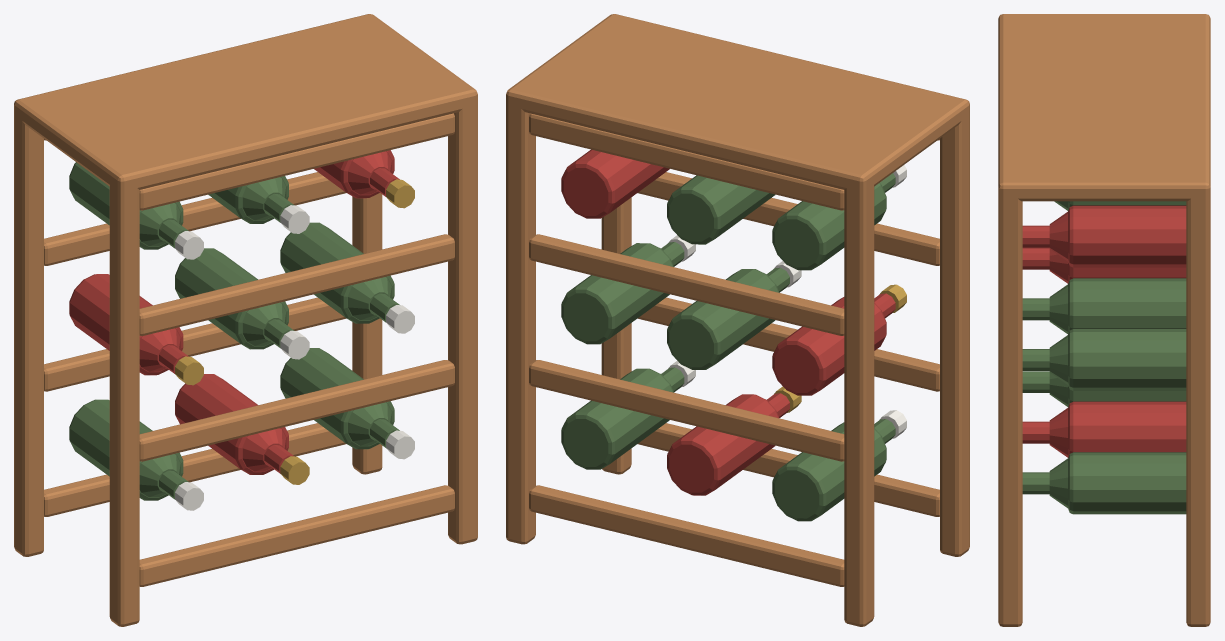
The model's file is hh_cat_wine_rack.glb.
3 renders of one model, left to right at view 1: azimuth 30°, elevation 25°; view 2: azimuth 150°, elevation 25°; view 3: azimuth 270°, elevation 25°, orthographic.
Visible parts, largest first — view 1: top, post, post.001, post.002, rail, rail.002, rail.004, rail.006, rail.003, rail.001, rail.005, post.003 (+27 smaller); view 2: top, post.001, post, post.003, rail.001, rail.003, rail.005, rail.007, bottle.002, bottle.005, bottle.001, bottle.004 (+9 smaller); view 3: top, post.003, post.002, bottle.002, bottle.008, bottle.005, bottle.001, bottle.004, bottle.003, bottle, bottle_shoulder.002, bottle_shoulder.004 (+13 smaller).
Boxes of the visible parts, x1=… form: top: x1=14, y1=15, x2=477, y2=191; post: x1=109, y1=166, x2=139, y2=626; post.001: x1=14, y1=96, x2=43, y2=556; post.002: x1=448, y1=84, x2=477, y2=544; rail: x1=139, y1=485, x2=454, y2=586; rail.002: x1=139, y1=360, x2=454, y2=461; rail.004: x1=139, y1=234, x2=454, y2=335; rail.006: x1=139, y1=113, x2=454, y2=210; rail.003: x1=44, y1=297, x2=346, y2=391; rail.001: x1=44, y1=423, x2=345, y2=516; rail.005: x1=44, y1=172, x2=345, y2=265; post.003: x1=352, y1=14, x2=382, y2=474; top: x1=506, y1=17, x2=969, y2=189; post.001: x1=844, y1=166, x2=874, y2=626; post: x1=940, y1=96, x2=969, y2=556; post.003: x1=506, y1=84, x2=535, y2=544; rail.001: x1=529, y1=485, x2=844, y2=586; rail.003: x1=529, y1=360, x2=844, y2=461; rail.005: x1=529, y1=234, x2=844, y2=335; rail.007: x1=529, y1=113, x2=844, y2=210; bottle.002: x1=561, y1=368, x2=673, y2=469; bottle.005: x1=561, y1=243, x2=673, y2=344; bottle.001: x1=667, y1=394, x2=779, y2=495; bottle.004: x1=667, y1=269, x2=779, y2=369; top: x1=998, y1=14, x2=1210, y2=201; post.003: x1=1186, y1=176, x2=1210, y2=626; post.002: x1=998, y1=176, x2=1022, y2=626; bottle.002: x1=1068, y1=452, x2=1186, y2=514; bottle.008: x1=1068, y1=205, x2=1186, y2=267; bottle.005: x1=1068, y1=329, x2=1186, y2=390; bottle.001: x1=1068, y1=401, x2=1186, y2=456; bottle.004: x1=1068, y1=278, x2=1186, y2=333; bottle.003: x1=1068, y1=263, x2=1186, y2=282; bottle: x1=1068, y1=386, x2=1186, y2=406; bottle_shoulder.002: x1=1049, y1=458, x2=1068, y2=508; bottle_shoulder.004: x1=1049, y1=284, x2=1068, y2=334.
Bounding box in the file's own units: 0.5 × 0.6 × 0.26.
